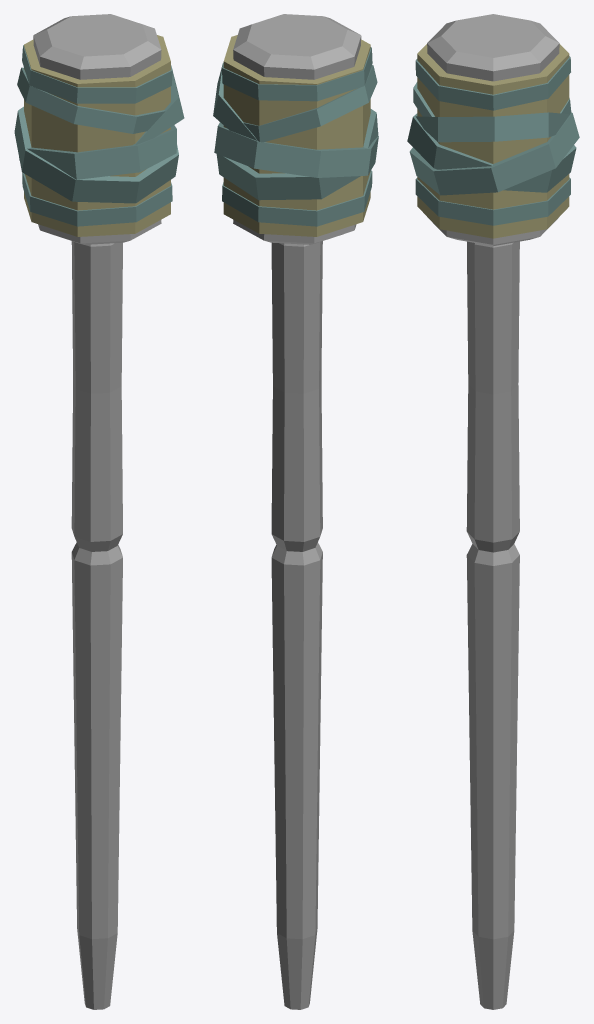
The model's file is tocha var2.fbx.
The picture shows the model from 3 angles, left to right: view 1: azimuth 30°, elevation 25°; view 2: azimuth 150°, elevation 25°; view 3: azimuth 270°, elevation 25°; orthographic projection.
Visible parts, largest first — view 1: haste_geo1, haste_geo4, tira_base_geo, pira_geo, tira_geo2, tira_geo3, tira_geo5, tira_geo6, tira_geo1, tira_geo4; view 2: haste_geo1, haste_geo4, tira_base_geo, pira_geo, tira_geo2, tira_geo3, tira_geo6, tira_geo1, tira_geo5, tira_geo4; view 3: haste_geo1, haste_geo4, tira_base_geo, pira_geo, tira_geo2, tira_geo4, tira_geo3, tira_geo1, tira_geo6, tira_geo5.
Boxes of the visible parts, x1,y1,x2,y2 form: haste_geo1: [71, 542, 122, 1009]; haste_geo4: [71, 241, 122, 551]; tira_base_geo: [24, 35, 170, 236]; pira_geo: [33, 14, 161, 244]; tira_geo2: [14, 106, 178, 203]; tira_geo3: [19, 125, 176, 179]; tira_geo5: [17, 67, 165, 133]; tira_geo6: [22, 45, 172, 103]; tira_geo1: [22, 172, 172, 226]; tira_geo4: [133, 71, 184, 145]; haste_geo1: [271, 542, 322, 1009]; haste_geo4: [271, 241, 322, 551]; tira_base_geo: [223, 35, 370, 236]; pira_geo: [233, 14, 361, 244]; tira_geo2: [214, 122, 378, 177]; tira_geo3: [216, 109, 378, 200]; tira_geo6: [222, 47, 372, 101]; tira_geo1: [222, 170, 372, 226]; tira_geo5: [243, 65, 377, 142]; tira_geo4: [213, 62, 257, 140]; haste_geo1: [466, 544, 519, 1009]; haste_geo4: [466, 241, 519, 552]; tira_base_geo: [417, 44, 569, 238]; pira_geo: [427, 14, 559, 246]; tira_geo2: [409, 112, 579, 195]; tira_geo4: [415, 112, 569, 142]; tira_geo3: [407, 113, 576, 192]; tira_geo1: [415, 177, 570, 225]; tira_geo6: [415, 56, 570, 110]; tira_geo5: [413, 82, 571, 116].
Size of the model in its own units: 0.2401 by 1.46 by 0.2358.
